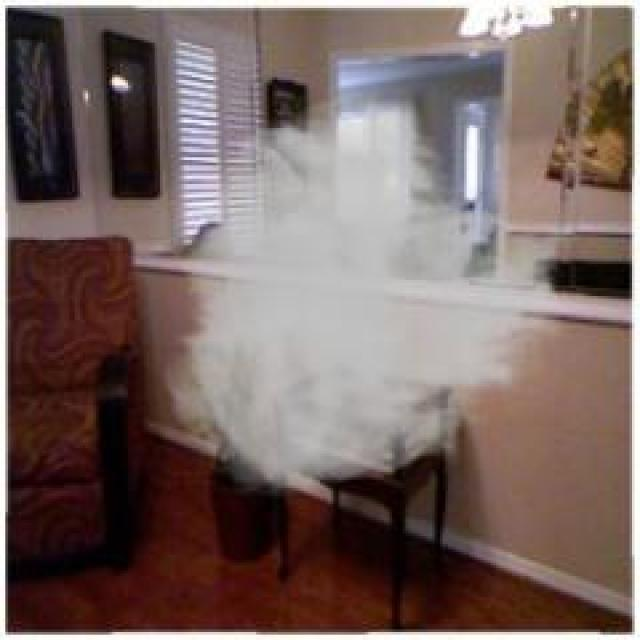Smoke: (173, 95, 555, 493)
